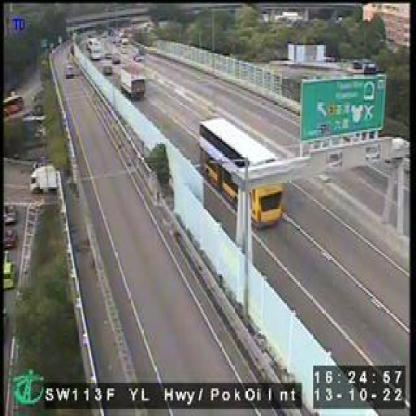Bus: (200, 122, 282, 233)
Car: (100, 62, 113, 76), (65, 64, 76, 77)
Truck: (117, 66, 147, 100)
